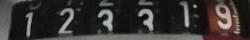digits: (136, 9, 154, 36), (97, 8, 113, 36), (60, 7, 74, 36), (216, 4, 231, 28), (177, 0, 189, 26), (25, 12, 33, 36)
